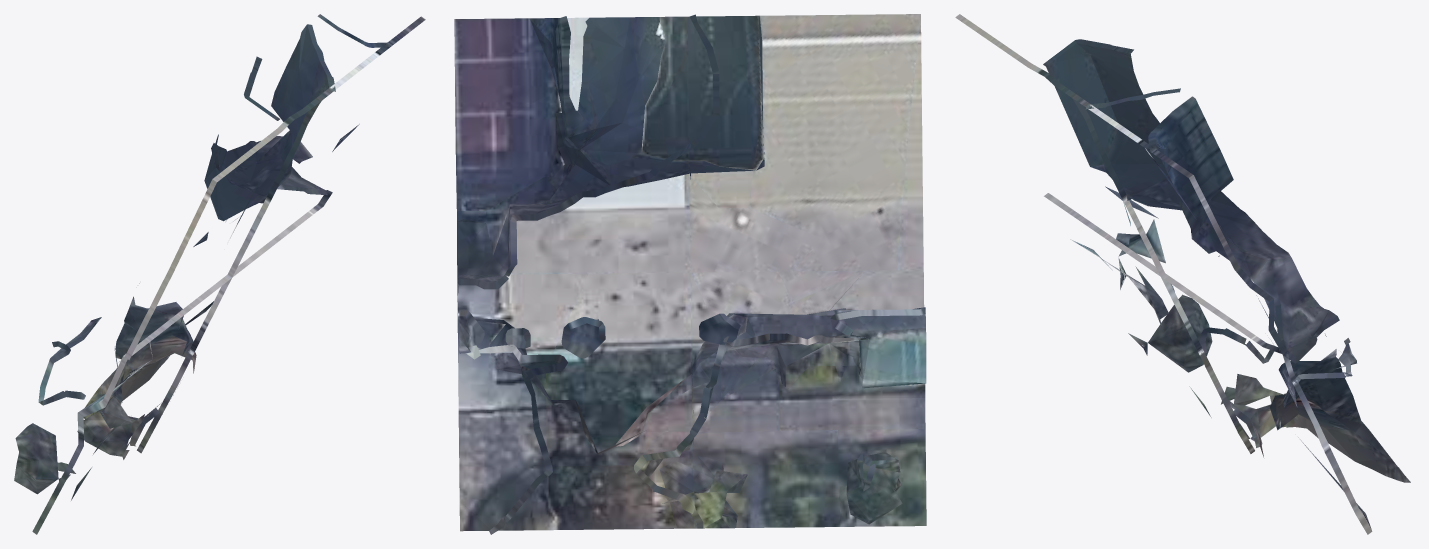
3 renders of one model, left to right at view 1: azimuth 30°, elevation 25°; view 2: azimuth 150°, elevation 25°; view 3: azimuth 270°, elevation 25°, orthographic. The views are drawn at different scales.
Bounding box in the file's own units: 38.25 × 37.16 × 35.61.
2 materials, 2 textured.
